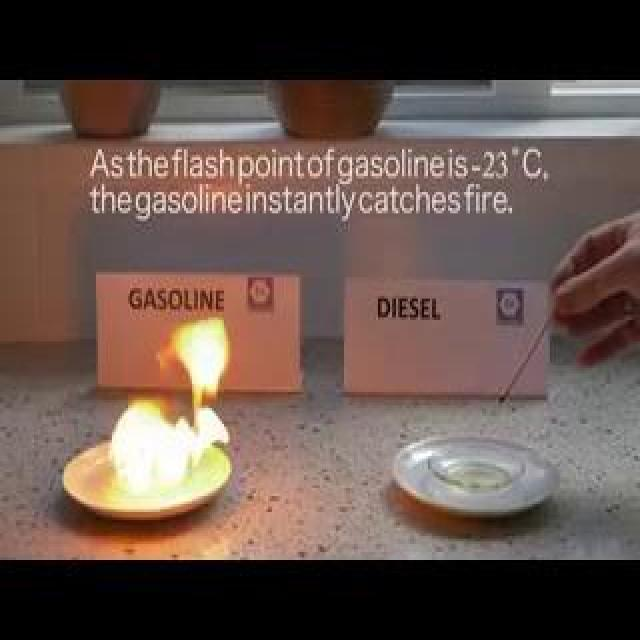Fire: (120, 295, 226, 492)
